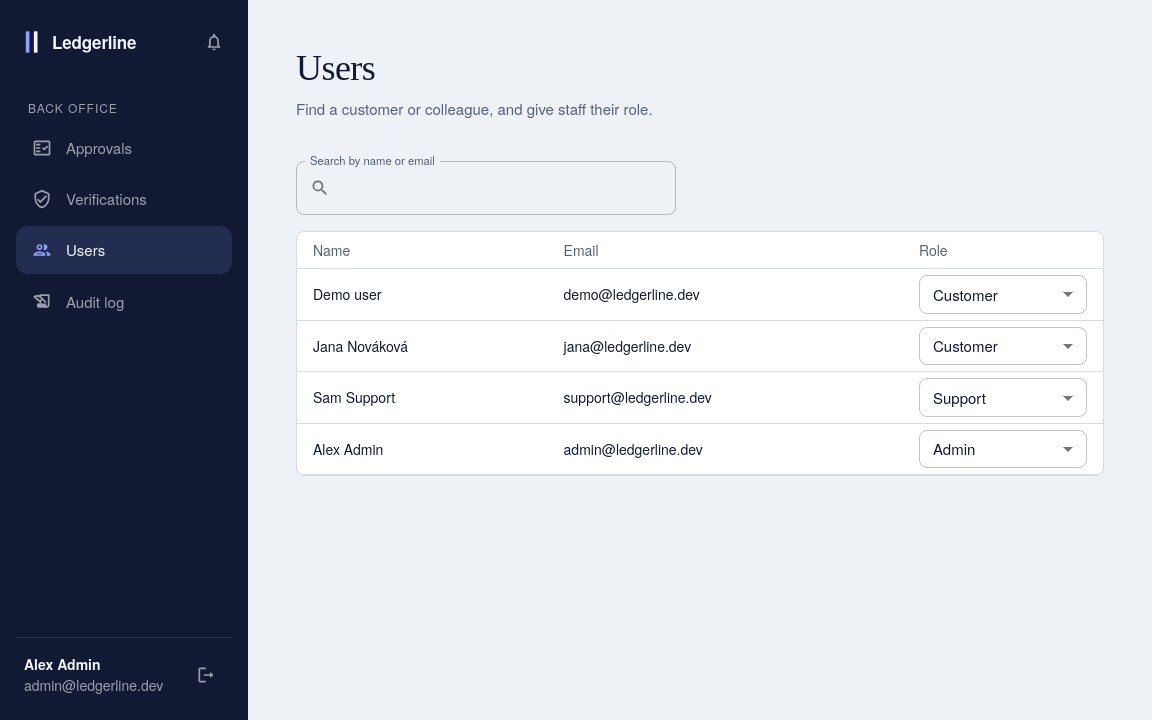
it: Users › refuses to demote the last admin
The width and height of the screenshot is (1152, 720).
Click the dropdown named "Role of Alex Admin" at [954, 449], box [933, 438, 975, 459]
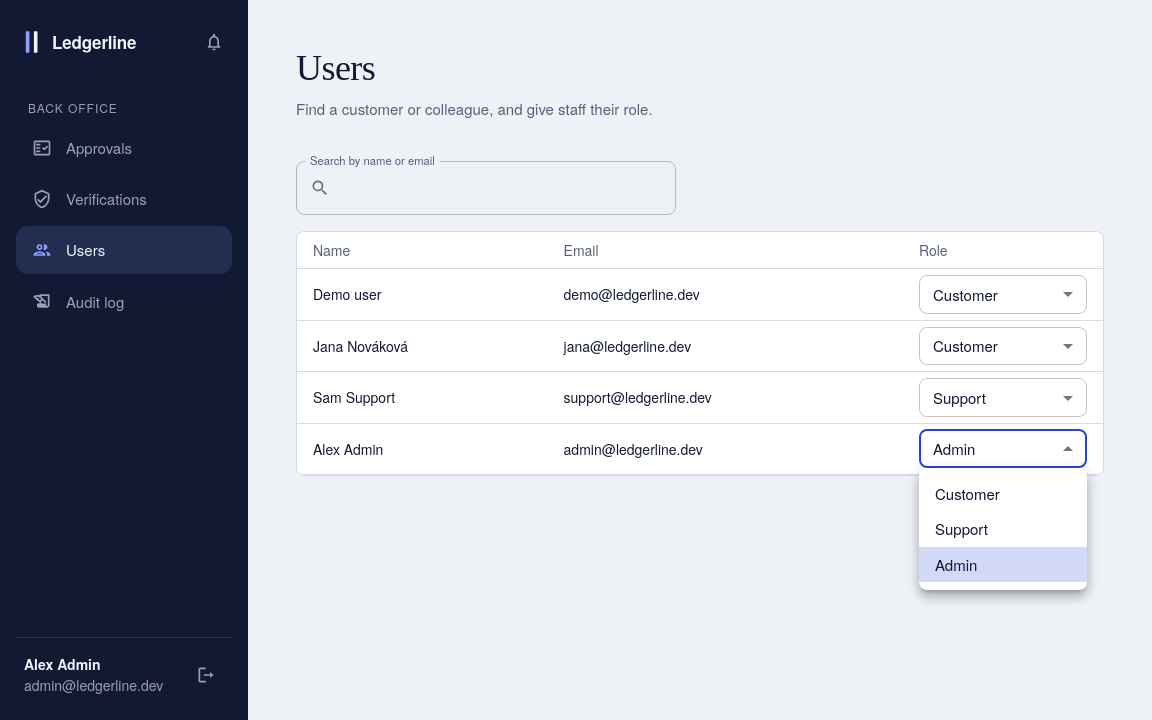
Click the option "Customer" at [967, 494], box [935, 483, 1000, 504]
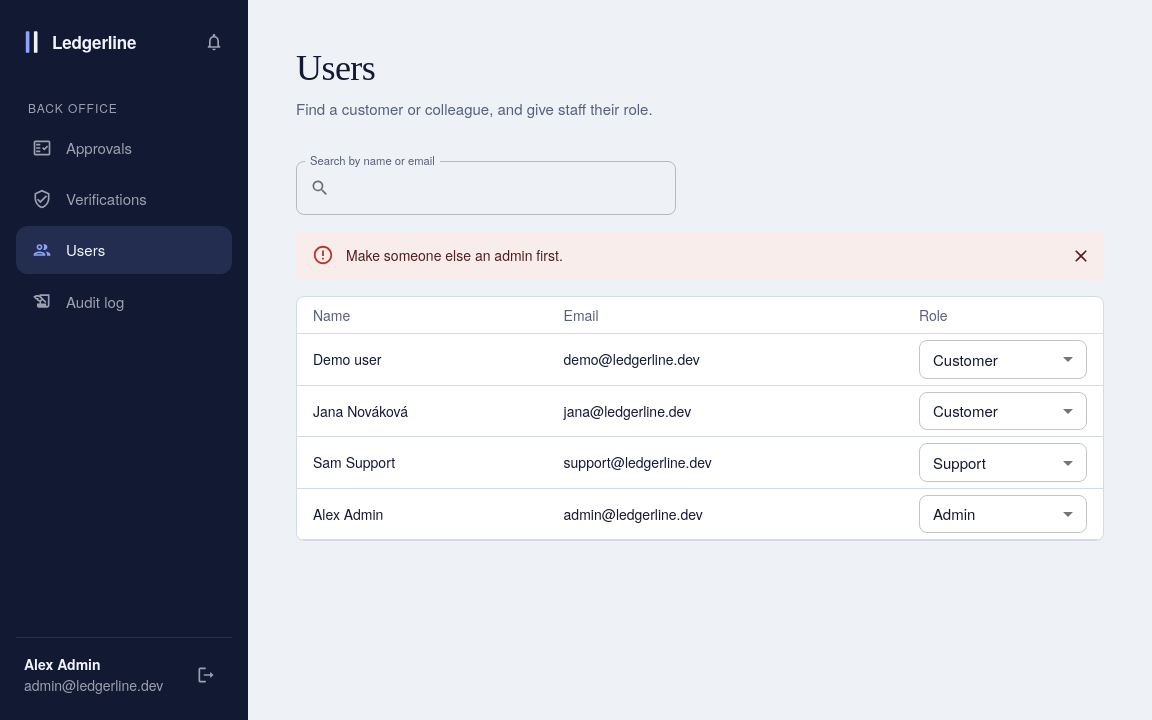
Expected: the text "Make someone else an admin first." is shown, [346, 245, 563, 265]
